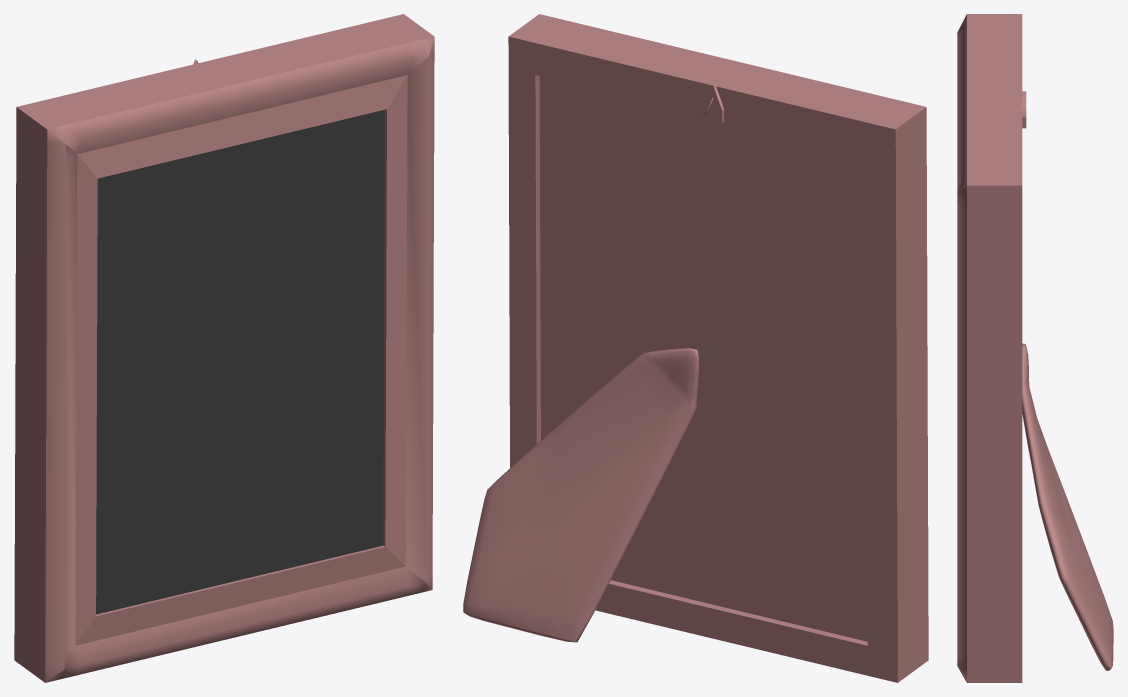
Rendered from cuadro.fbx.
The picture shows the model from 3 angles, left to right: view 1: azimuth 30°, elevation 25°; view 2: azimuth 150°, elevation 25°; view 3: azimuth 270°, elevation 25°; orthographic projection. The views are drawn at different scales.
Parts seen in each view (by area): view 1: victim_photo_PICTURE_Glass_0, victim_photo_PICTURE_frame_and_stand_0; view 2: victim_photo_PICTURE_frame_and_stand_0; view 3: victim_photo_PICTURE_frame_and_stand_0.
Boxes of the visible parts, x1,y1,x2,y2 form: victim_photo_PICTURE_Glass_0: (96,110,384,614); victim_photo_PICTURE_frame_and_stand_0: (14,14,434,682); victim_photo_PICTURE_frame_and_stand_0: (463,14,928,682); victim_photo_PICTURE_frame_and_stand_0: (957,14,1113,682).
Size of the model in its own units: 22.49 by 30.74 by 8.68.
